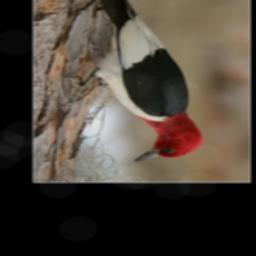Woodpecker: (61, 0, 206, 166)
